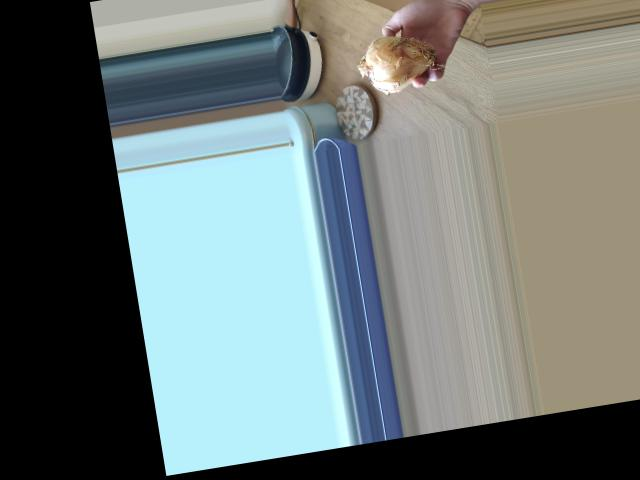onion: (356, 27, 445, 99)
